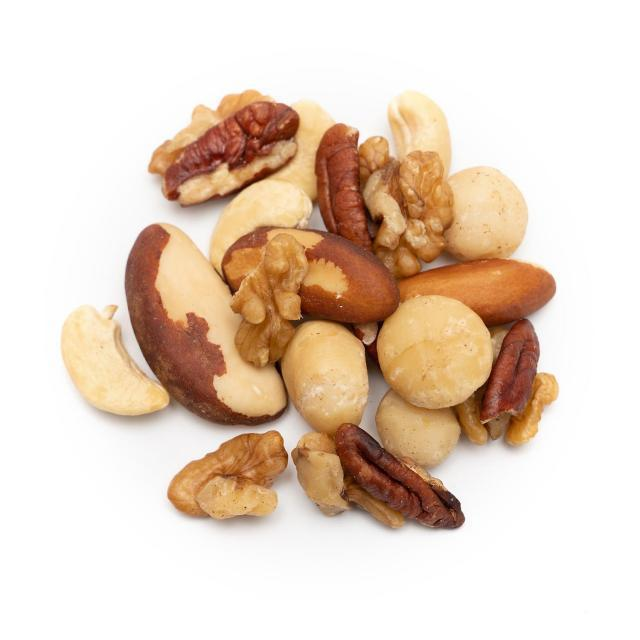Frutta secca: (57, 86, 563, 538)
